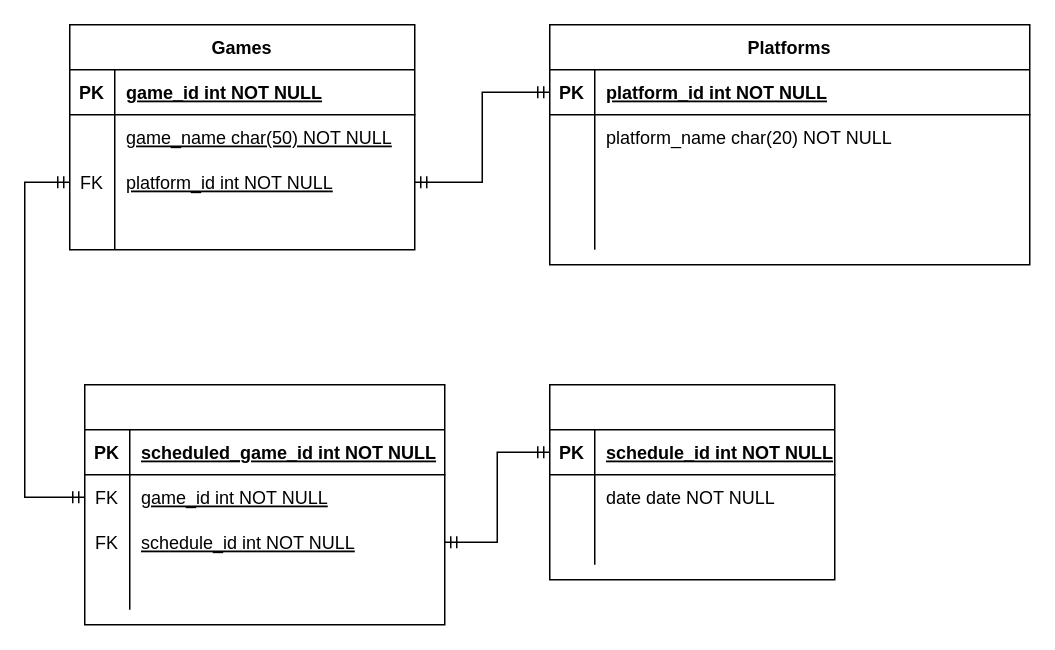
The diagram is 1055 pixels wide and 650 high, and some of its shapes have lost their labels. The box of each missing label's shape, as (x1, y1, x2, y2) in pixels:
Scheduled Games: (83, 383, 445, 625)
Schedules: (548, 383, 835, 580)
